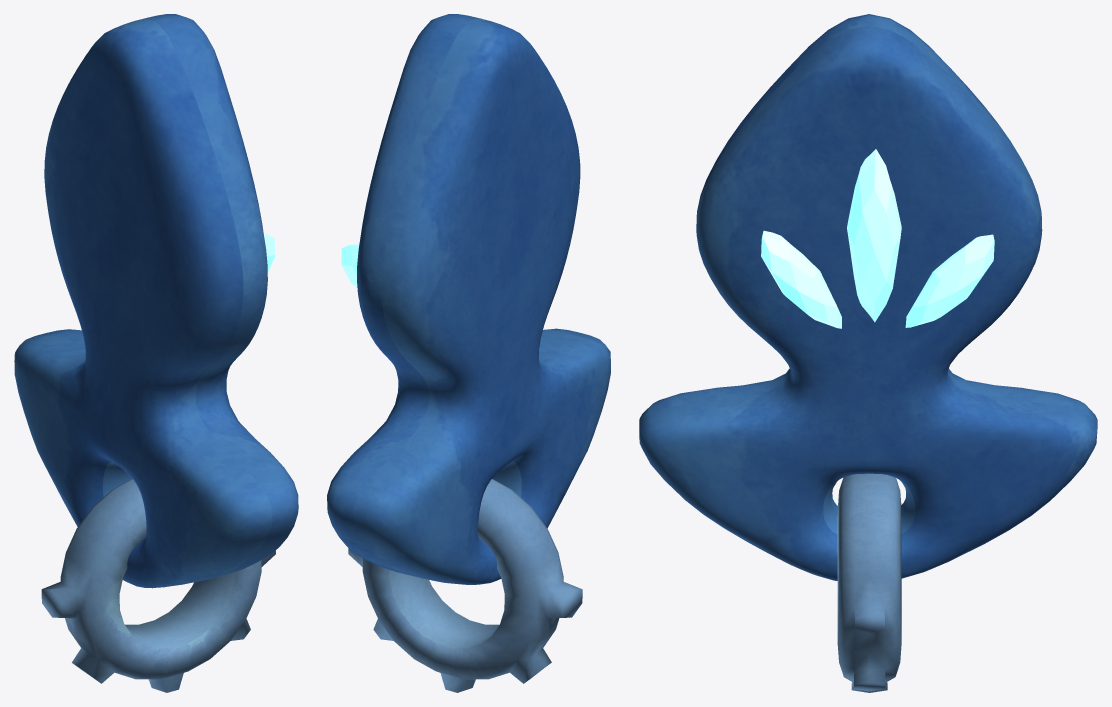
Rendered from Key.fbx.
The picture shows the model from 3 angles, left to right: view 1: azimuth 30°, elevation 25°; view 2: azimuth 150°, elevation 25°; view 3: azimuth 270°, elevation 25°; orthographic projection.
Parts seen in each view (by area): view 1: Cube.001, Circle.001; view 2: Cube.001, Circle.001, Cube; view 3: Cube.001, Cube, Circle.001.
Part boxes in pixels (<box>): Cube.001: <box>14,14,298,588</box>; Circle.001: <box>41,478,275,692</box>; Cube.001: <box>327,14,610,584</box>; Circle.001: <box>348,479,582,692</box>; Cube: <box>341,243,359,287</box>; Cube.001: <box>639,14,1097,580</box>; Cube: <box>761,149,994,328</box>; Circle.001: <box>837,473,901,692</box>.
Bounding box in the file's own units: 96.88 × 283 × 179.
Materials: 2 (1 with a texture image).
